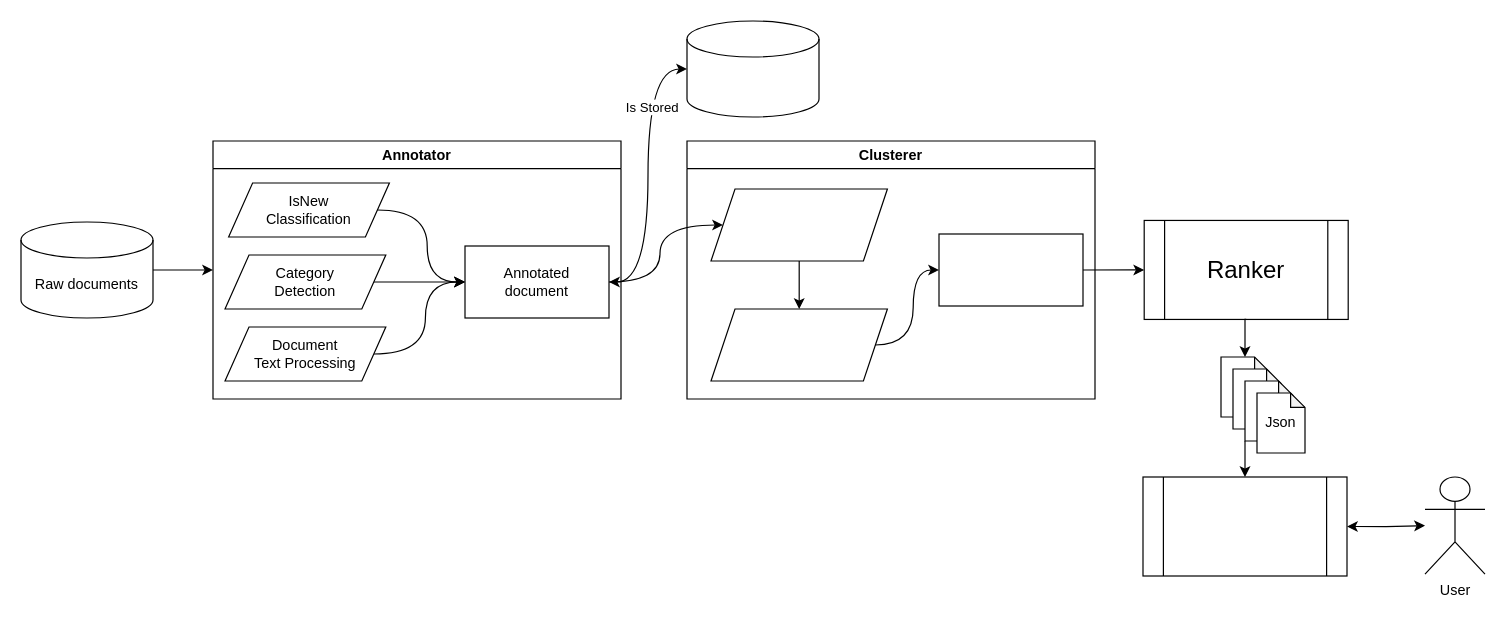
This 1506x620 diagram has some shape labels left out. Here are the shapes that lost their labels. From the top down, the centre of each, then its label:
At (x=752, y=68): "Annotated documents".
At (x=798, y=224): "SLINK Aglomerative Clustering".
At (x=1010, y=269): "Documents Cluster".
At (x=798, y=344): "Cluster Summarisation".
At (x=1244, y=526): "Web Interface".
